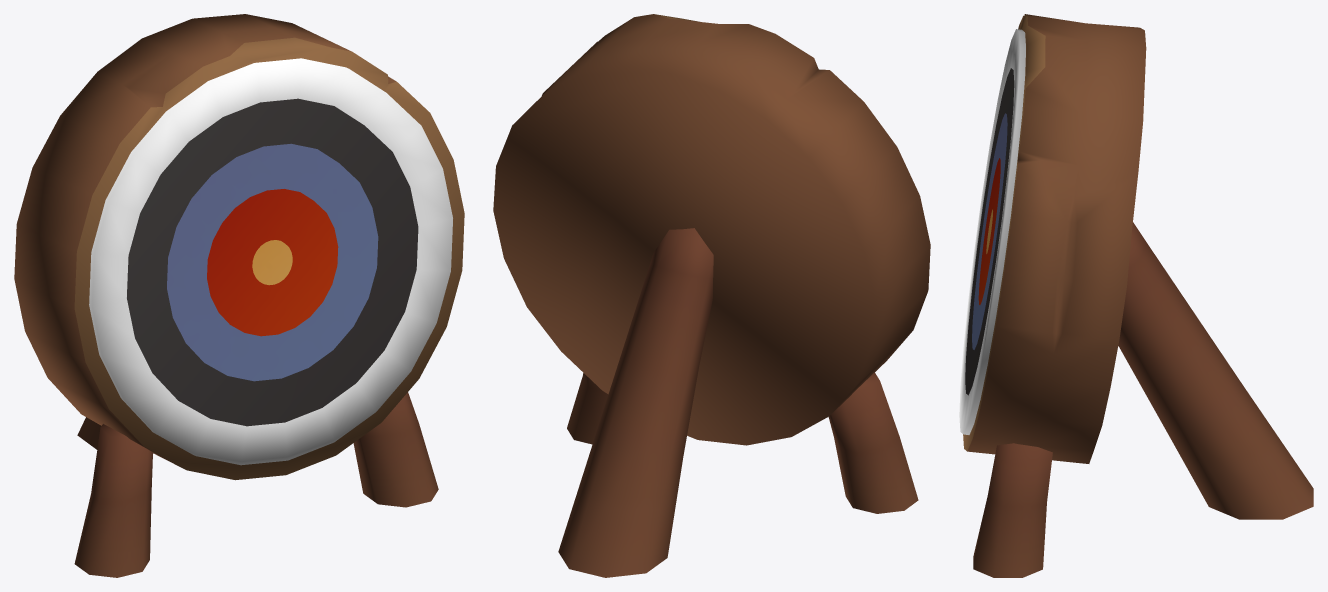
Rendered from obj_Target.fbx.
3 views of the same model, side by side, from view 1: azimuth 30°, elevation 25°; view 2: azimuth 150°, elevation 25°; view 3: azimuth 270°, elevation 25° (orthographic). The views are drawn at different scales.
Visible parts, largest first — view 1: Cylinder.004; view 2: Cylinder.004; view 3: Cylinder.004.
Part boxes in pixels (left/top/right/bottom): Cylinder.004: left=14, top=14, right=464, bottom=577; Cylinder.004: left=493, top=14, right=930, bottom=577; Cylinder.004: left=959, top=14, right=1313, bottom=577.
Bounding box in the file's own units: 201 × 160 × 230.
